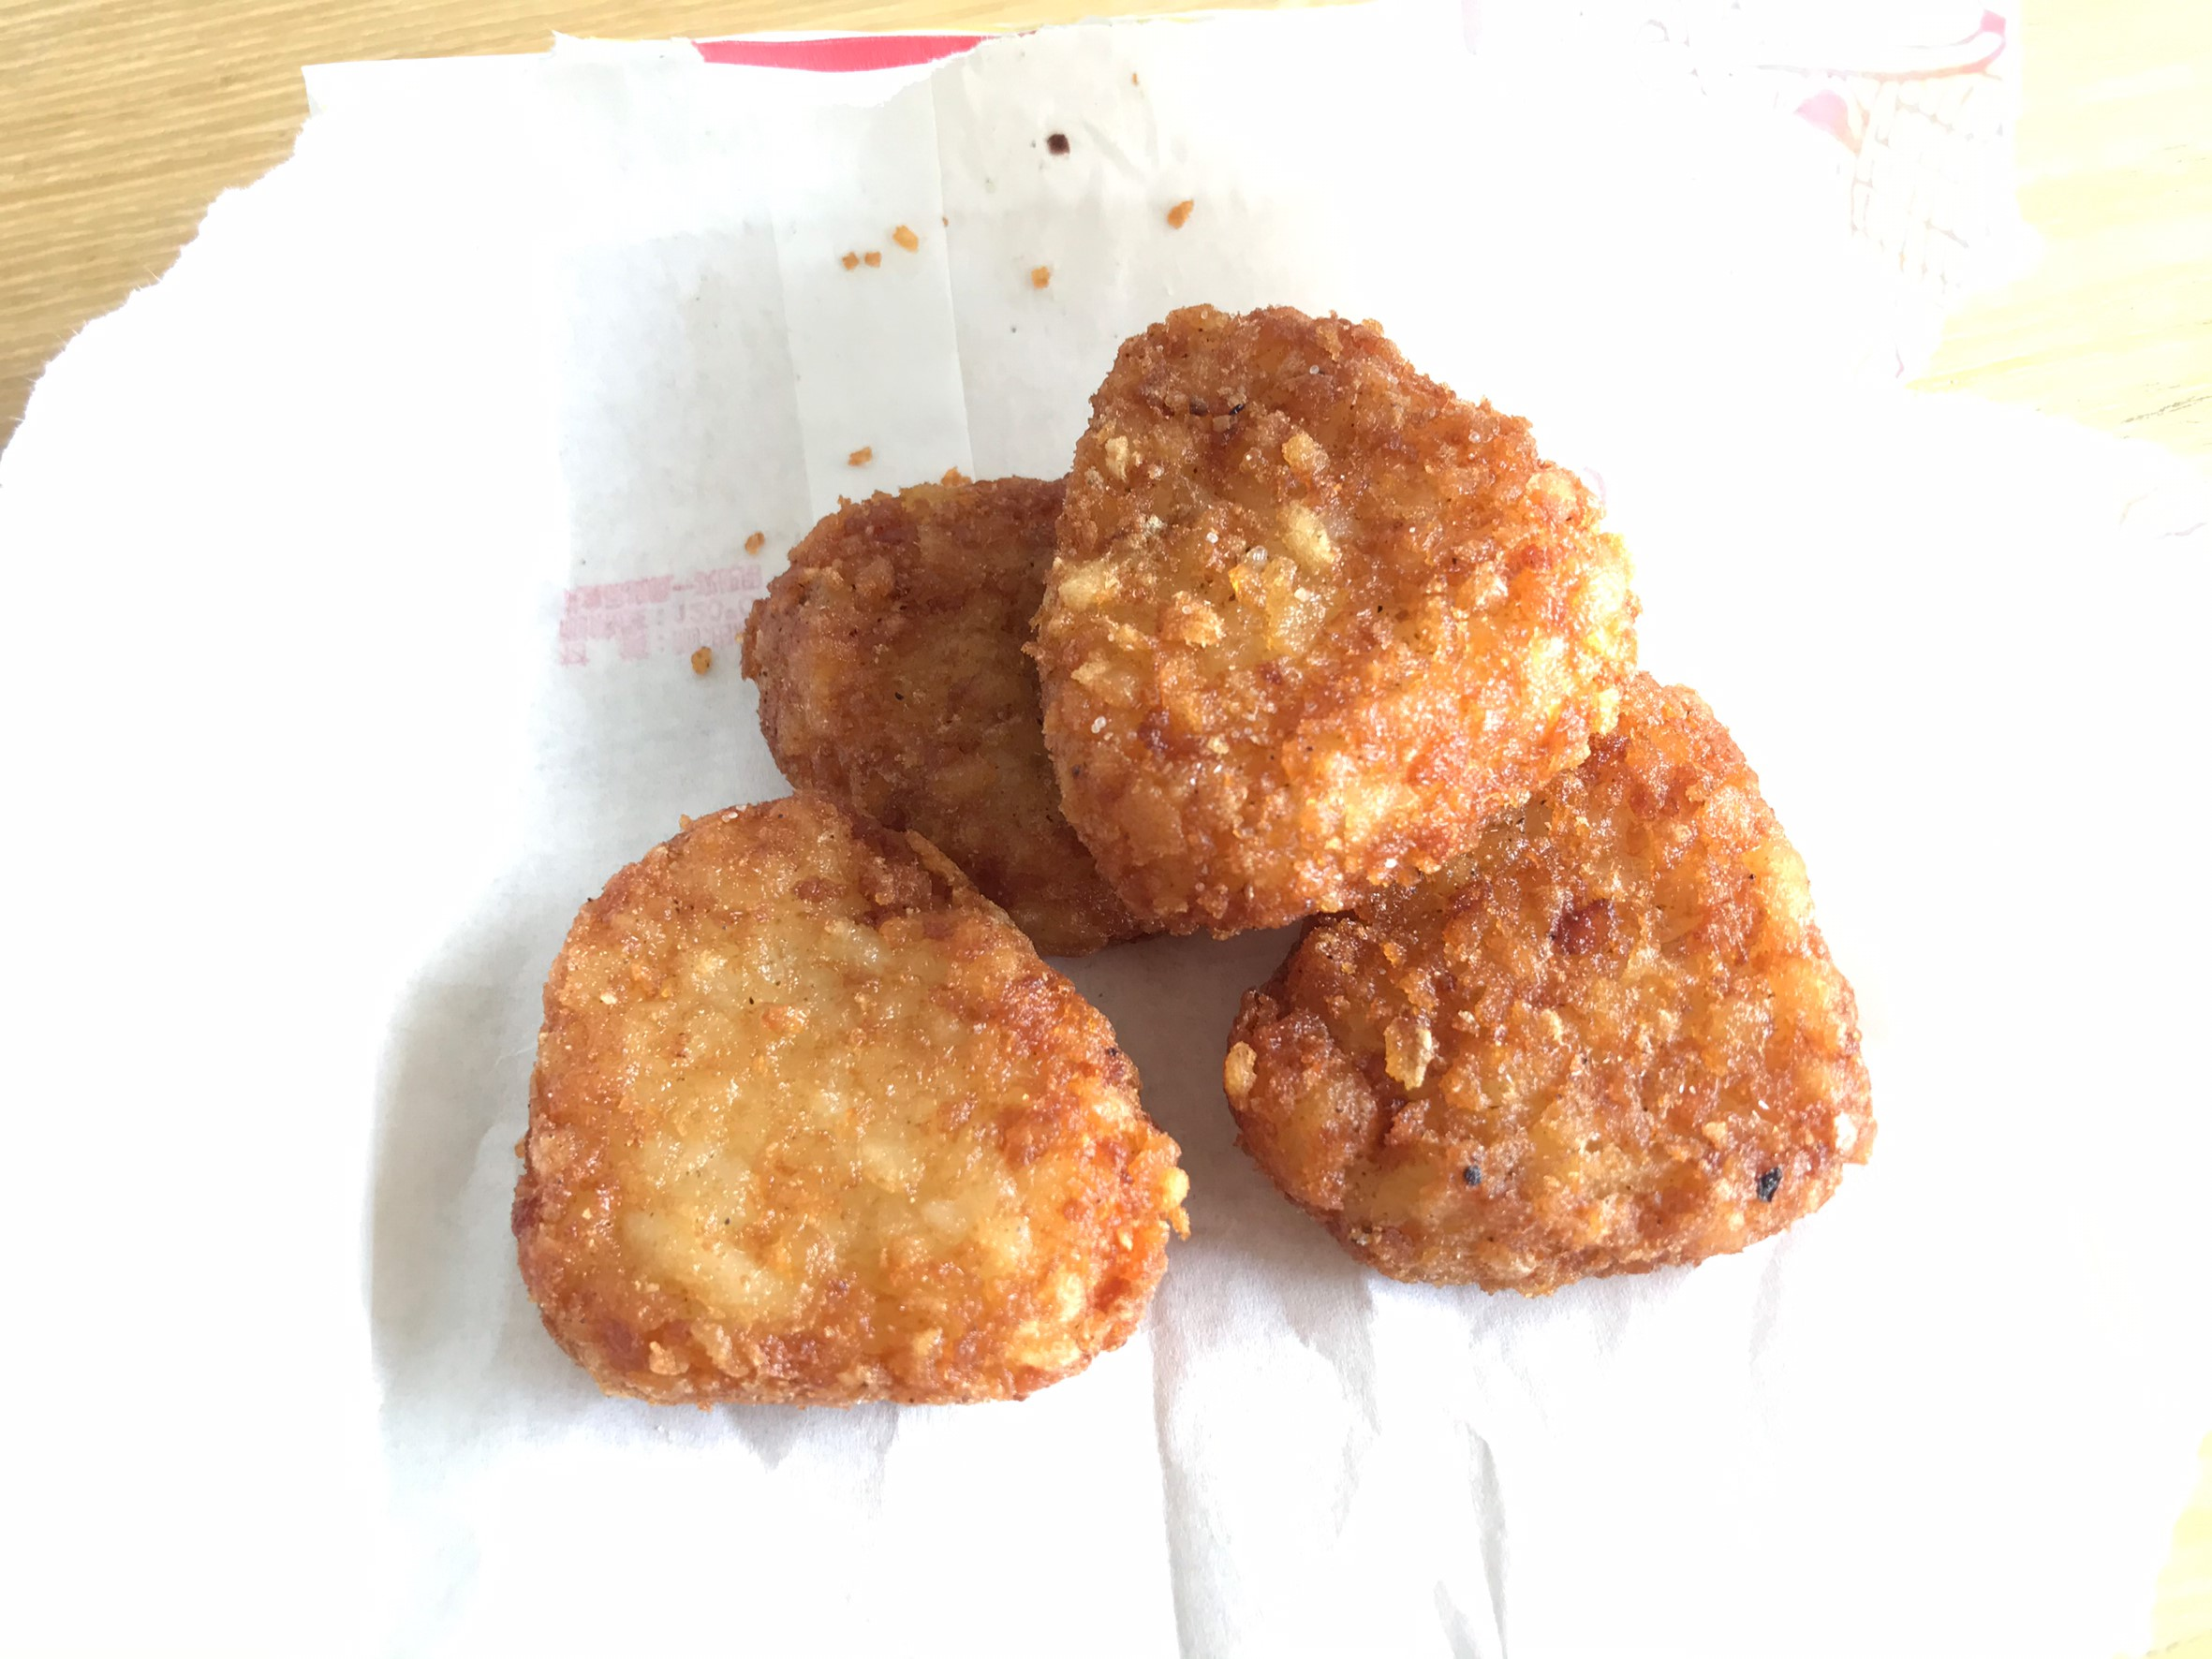triangle_hash_brown: (500, 291, 1884, 1415)
